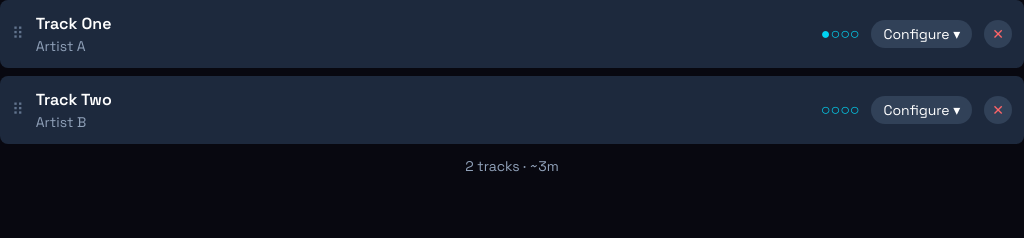
Test: TrackList › toggles the inline configure panel via renderConfig
Check: the text "Config for t1" is not shown
What coordinates should you click on to do the following:
click the button "Configure ▾" in the row of "Track One"
I would click on:
 (922, 34)
Its box is [872,20,972,48].
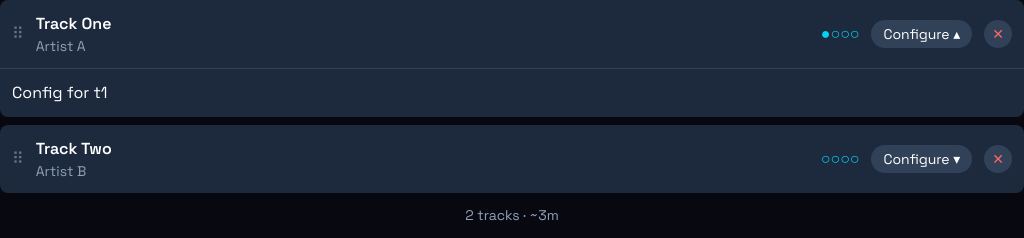
Check: the text "Config for t1" is shown, box [12,82,108,103]
What coordinates should you click on to do the following:
click the button "Configure ▴"
I would click on:
 (922, 34)
Its box is [872,20,972,48].
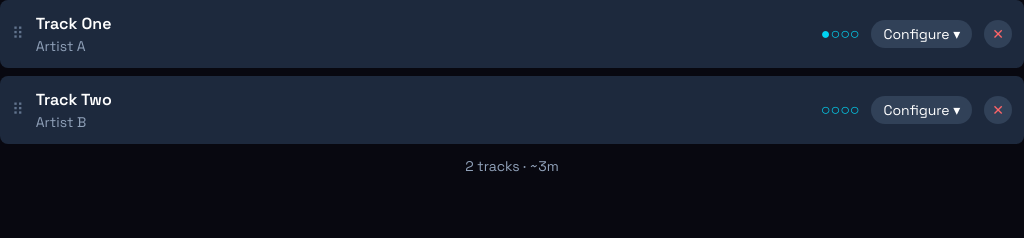
Check: the text "Config for t1" is gone
